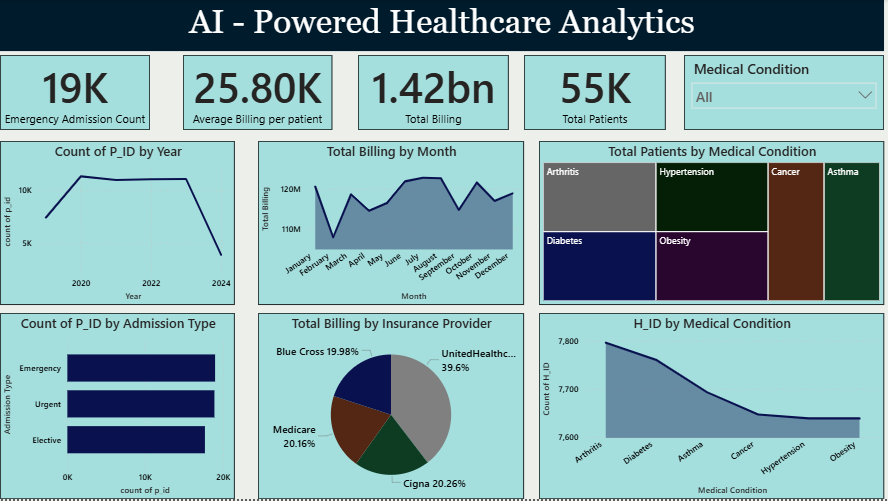

What the dashboard file says about the page in this screenshot:
{"tool":"powerbi","page":{"name":"Page 1","canvas":[1280,720],"ordinal":0},"visuals":[{"type":"card","fields":{"Values":["Sheet1.Total Patients"]},"box":[754.6,80.6,204.5,108],"z":0},{"type":"card","fields":{"Values":["Sheet1.Total Billing"]},"box":[515.5,80.6,217.4,108],"z":1000},{"type":"card","fields":{"Values":["Sheet1.Average Billing per patient"]},"box":[263.5,80.6,214.6,108],"z":2000},{"type":"card","fields":{"Values":["Sheet1.Emergency Admission Count"]},"box":[0,80.6,216,108],"z":3000},{"type":"lineChart","title":"Count of P_ID by Year","fields":{"Category":["Sheet1.Date of Admission.Variation.Date Hierarchy.Year","Sheet1.Date of Admission.Variation.Date Hierarchy.Quarter","Sheet1.Date of Admission.Variation.Date Hierarchy.Month","Sheet1.Date of Admission.Variation.Date Hierarchy.Day"],"Y":["Sheet1.count of p_id"]},"box":[0,204.5,338.4,236.2],"z":4000},{"type":"textbox","box":[0,0,1273,74.9],"z":5000},{"type":"areaChart","fields":{"Category":["Sheet1.Date of Admission.Variation.Date Hierarchy.Month","Sheet1.Date of Admission.Variation.Date Hierarchy.Day"],"Y":["Sheet1.Total Billing"]},"box":[371.5,204.5,383,236.2],"z":6000},{"type":"slicer","fields":{"Values":["Sheet1.Medical Condition"]},"box":[985,80.6,288,108],"z":7000},{"type":"treemap","fields":{"Group":["Sheet1.Medical Condition"],"Values":["Sheet1.Total Patients"]},"box":[776.2,204.5,496.8,236.2],"z":8000},{"type":"barChart","title":"Count of P_ID by Admission Type","fields":{"Category":["Sheet1.Admission Type"],"Y":["Sheet1.count of p_id"]},"box":[0,452.2,338.4,267.8],"z":9000},{"type":"pieChart","fields":{"Category":["Sheet1.Insurance Provider"],"Y":["Sheet1.Total Billing"]},"box":[371.5,452.2,383,267.8],"z":10000},{"type":"areaChart","title":"H_ID by Medical Condition","fields":{"Category":["Sheet1.Medical Condition"],"Y":["Count(Sheet1.H_ID)"]},"box":[776.2,452.2,496.8,267.8],"z":11000}]}

Visuals, with their boxes in screenshot pixels (x1, y1, x2, y2), scaled from the page's 1280x720 canvas onto the 888x501 screenshot:
card - Sheet1.Total Patients: (x1=524, y1=56, x2=665, y2=131)
card - Sheet1.Total Billing: (x1=358, y1=56, x2=508, y2=131)
card - Sheet1.Average Billing per patient: (x1=183, y1=56, x2=332, y2=131)
card - Sheet1.Emergency Admission Count: (x1=0, y1=56, x2=150, y2=131)
"Count of P_ID by Year" lineChart: (x1=0, y1=142, x2=235, y2=307)
textbox: (x1=0, y1=0, x2=883, y2=52)
areaChart - Sheet1.Date of Admission.Variation.Date Hierarchy.Month x Sheet1.Date of Admission.Variation.Date Hierarchy.Day: (x1=258, y1=142, x2=523, y2=307)
slicer - Sheet1.Medical Condition: (x1=683, y1=56, x2=883, y2=131)
treemap - Sheet1.Medical Condition x Sheet1.Total Patients: (x1=538, y1=142, x2=883, y2=307)
"Count of P_ID by Admission Type" barChart: (x1=0, y1=315, x2=235, y2=500)
pieChart - Sheet1.Insurance Provider x Sheet1.Total Billing: (x1=258, y1=315, x2=523, y2=500)
"H_ID by Medical Condition" areaChart: (x1=538, y1=315, x2=883, y2=500)
